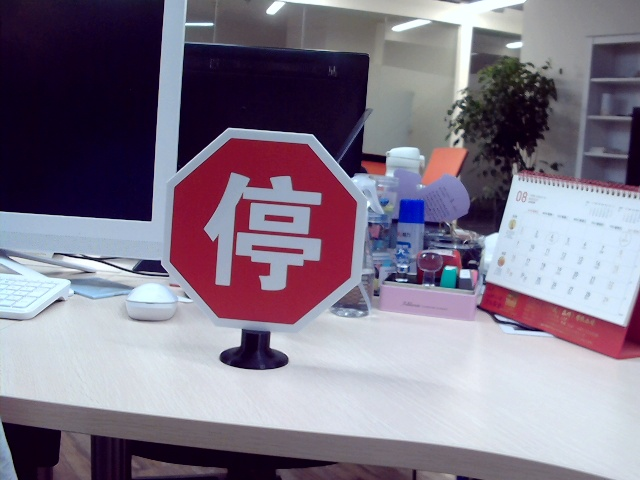stop: (202, 170, 325, 291)
